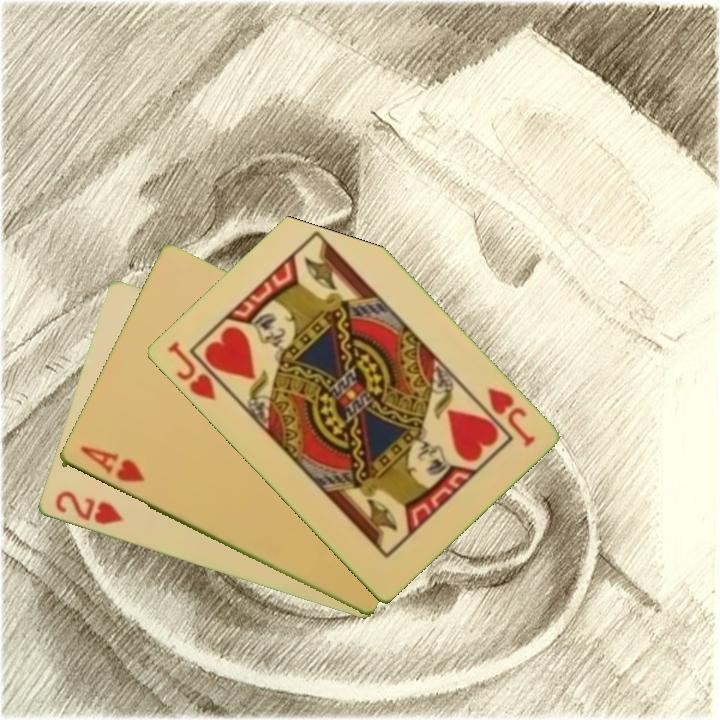2h: (51, 487, 126, 529)
Ah: (75, 442, 147, 486)
Jh: (163, 337, 233, 404), (483, 383, 538, 450)
